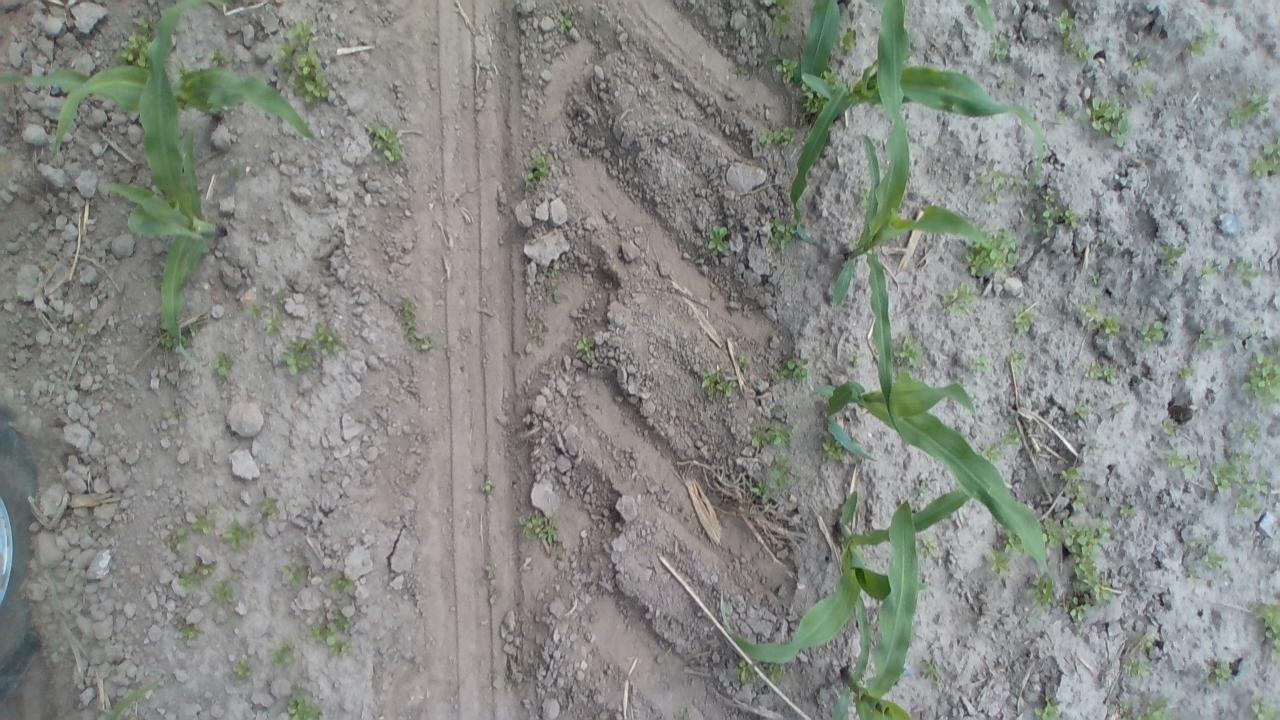Maize: (830, 0, 1000, 445), (788, 27, 1058, 254), (806, 368, 1054, 610), (714, 488, 971, 676), (2, 13, 324, 160), (104, 0, 230, 356), (814, 502, 931, 720), (789, 0, 842, 92), (100, 682, 158, 718), (966, 0, 996, 34)
Weeds: (277, 16, 330, 103), (1066, 521, 1118, 609), (1206, 448, 1270, 512), (965, 228, 1023, 279), (1082, 95, 1132, 148), (1031, 189, 1083, 236), (307, 604, 352, 658), (1051, 7, 1094, 62), (1241, 350, 1280, 408), (396, 298, 434, 352), (115, 17, 154, 66), (1227, 90, 1271, 131), (1249, 600, 1280, 654), (540, 258, 572, 310), (366, 121, 404, 164), (517, 509, 560, 546), (747, 420, 796, 452), (1188, 541, 1224, 579), (282, 688, 324, 719), (698, 368, 736, 402), (939, 282, 976, 316), (281, 338, 314, 376), (1060, 467, 1088, 511), (1162, 446, 1199, 478), (766, 456, 797, 494), (314, 319, 344, 358), (765, 0, 793, 39), (1026, 572, 1056, 608), (280, 558, 313, 590), (224, 520, 256, 552), (1186, 27, 1220, 57), (268, 636, 298, 670), (1250, 142, 1278, 178), (172, 616, 208, 644), (523, 152, 552, 185), (777, 355, 811, 383), (1082, 358, 1120, 382), (1232, 258, 1262, 288), (757, 126, 796, 149), (972, 167, 1012, 189), (1063, 594, 1092, 624), (190, 509, 221, 537), (770, 216, 798, 247), (1139, 696, 1174, 720), (1010, 307, 1040, 335), (1077, 297, 1101, 331), (1042, 512, 1064, 549), (896, 337, 922, 368), (1248, 695, 1280, 720), (706, 223, 731, 254), (988, 548, 1012, 580), (1128, 627, 1156, 654), (1140, 318, 1166, 347), (528, 320, 552, 351), (210, 580, 237, 607), (728, 58, 754, 86), (219, 164, 251, 186), (1158, 241, 1184, 268), (1033, 694, 1061, 719), (1195, 327, 1225, 350), (172, 568, 195, 598), (772, 56, 798, 82), (1104, 399, 1132, 423), (212, 352, 237, 378), (732, 660, 758, 685), (801, 88, 825, 115), (230, 658, 257, 682), (1121, 658, 1150, 680), (732, 347, 756, 373), (1205, 658, 1231, 682), (1004, 348, 1028, 374), (261, 310, 284, 336), (980, 442, 1009, 462), (921, 660, 945, 684), (819, 440, 845, 462), (210, 46, 236, 68), (751, 477, 772, 504), (327, 574, 355, 594), (1238, 420, 1262, 443), (988, 37, 1009, 63), (1102, 313, 1123, 339), (578, 332, 596, 362), (1002, 423, 1024, 447), (1196, 260, 1219, 282), (1111, 696, 1132, 720), (240, 303, 264, 324), (260, 498, 280, 523), (1002, 534, 1024, 556), (838, 26, 857, 51), (919, 534, 940, 556), (156, 334, 188, 348), (820, 66, 842, 86), (71, 314, 91, 336), (967, 355, 990, 374), (976, 190, 1000, 208), (768, 662, 786, 685), (1161, 418, 1181, 438), (556, 11, 576, 31), (196, 562, 216, 582), (912, 479, 932, 499), (184, 320, 204, 340), (1086, 266, 1104, 288), (170, 528, 188, 550), (1130, 56, 1152, 74), (477, 474, 494, 497), (1175, 365, 1195, 384), (1138, 81, 1156, 102), (1118, 498, 1136, 519), (847, 349, 866, 368), (1074, 400, 1092, 420), (168, 404, 188, 422), (856, 184, 868, 212), (998, 70, 1012, 92), (482, 561, 498, 580), (275, 288, 290, 308), (671, 706, 692, 720), (488, 589, 503, 608), (1011, 179, 1025, 198), (1054, 106, 1070, 122), (189, 557, 202, 570), (230, 570, 244, 581)
